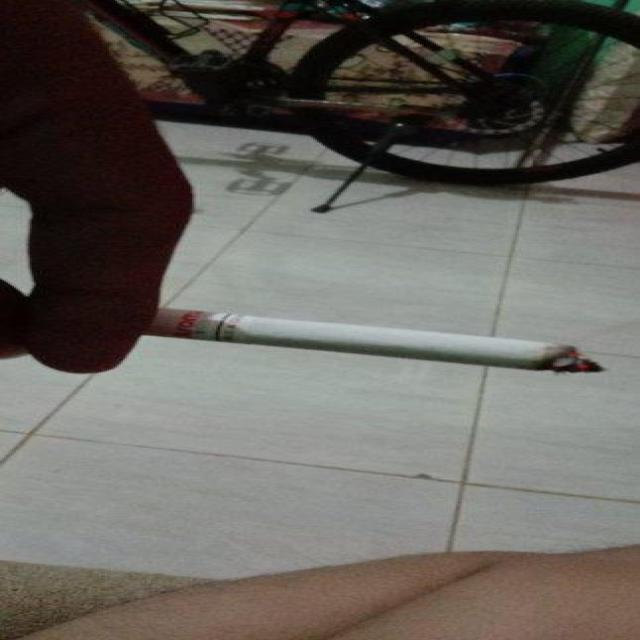rokok: (153, 296, 614, 384)
